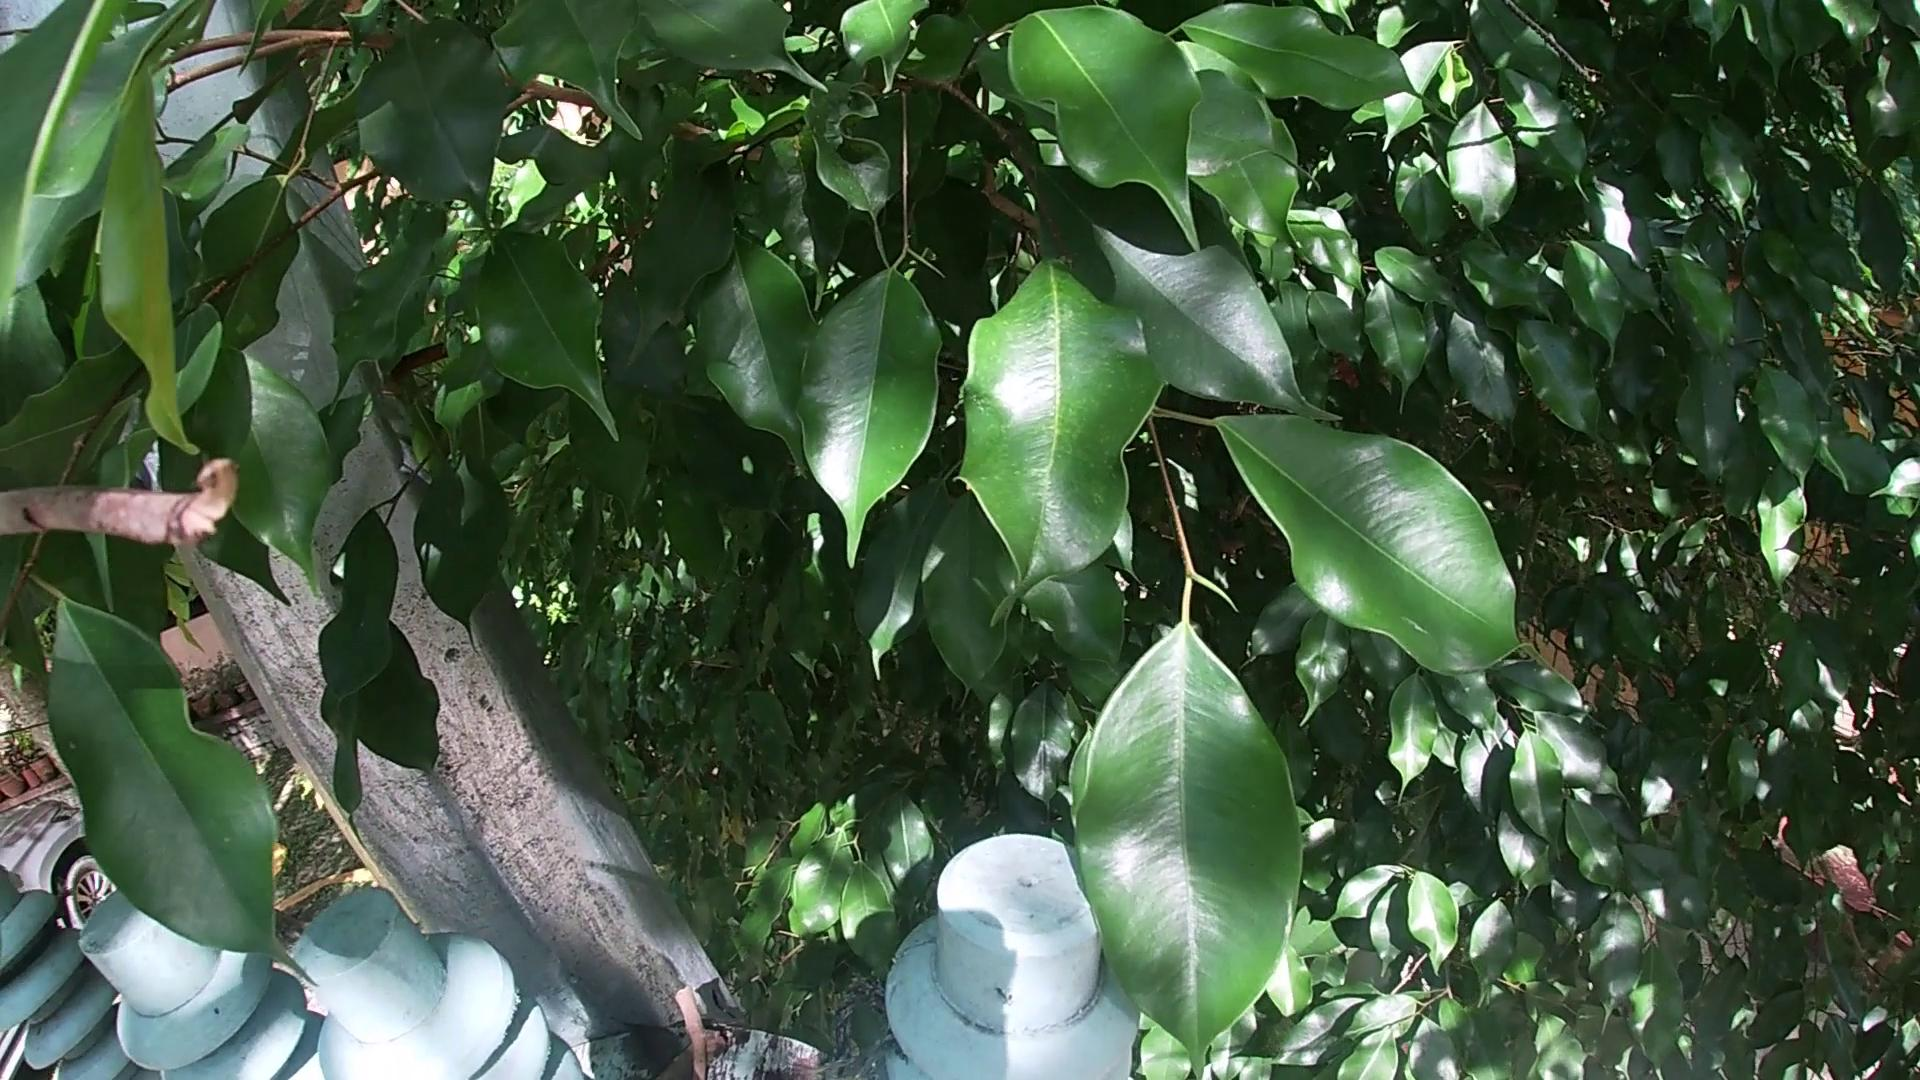tree branch: (1, 433, 265, 558), (674, 984, 719, 1080), (666, 1022, 731, 1080)
